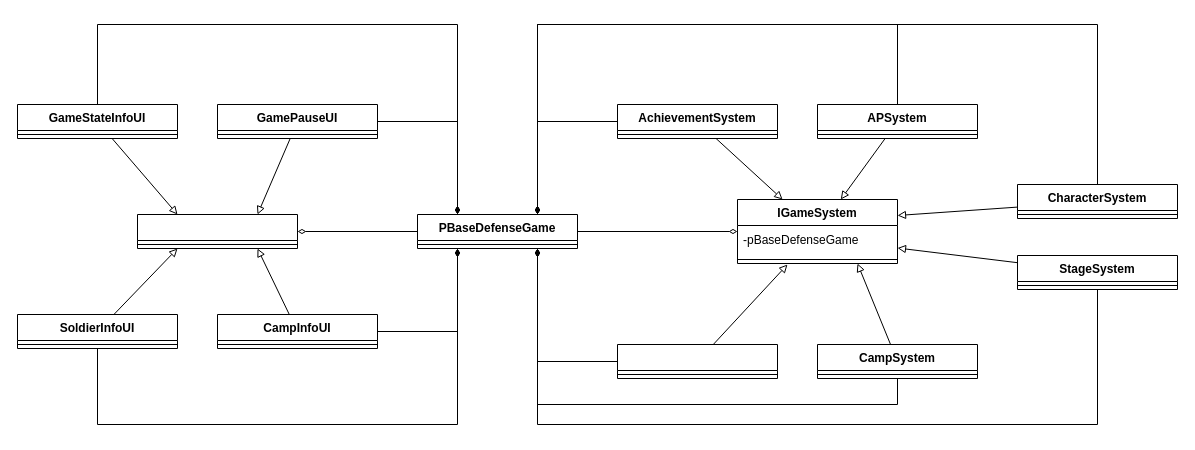
Image size: 1195x450. Some labels were removed from this diagram. Here are the shapes that lost their labels. From the top down, the centre of each, then its label:
(x=217, y=231): UserInterface
(x=697, y=361): GameEventSystem
